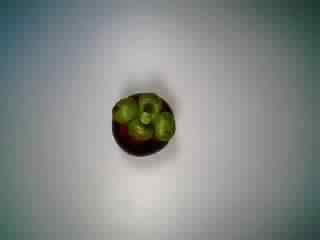mangosteen: (108, 91, 181, 159)
